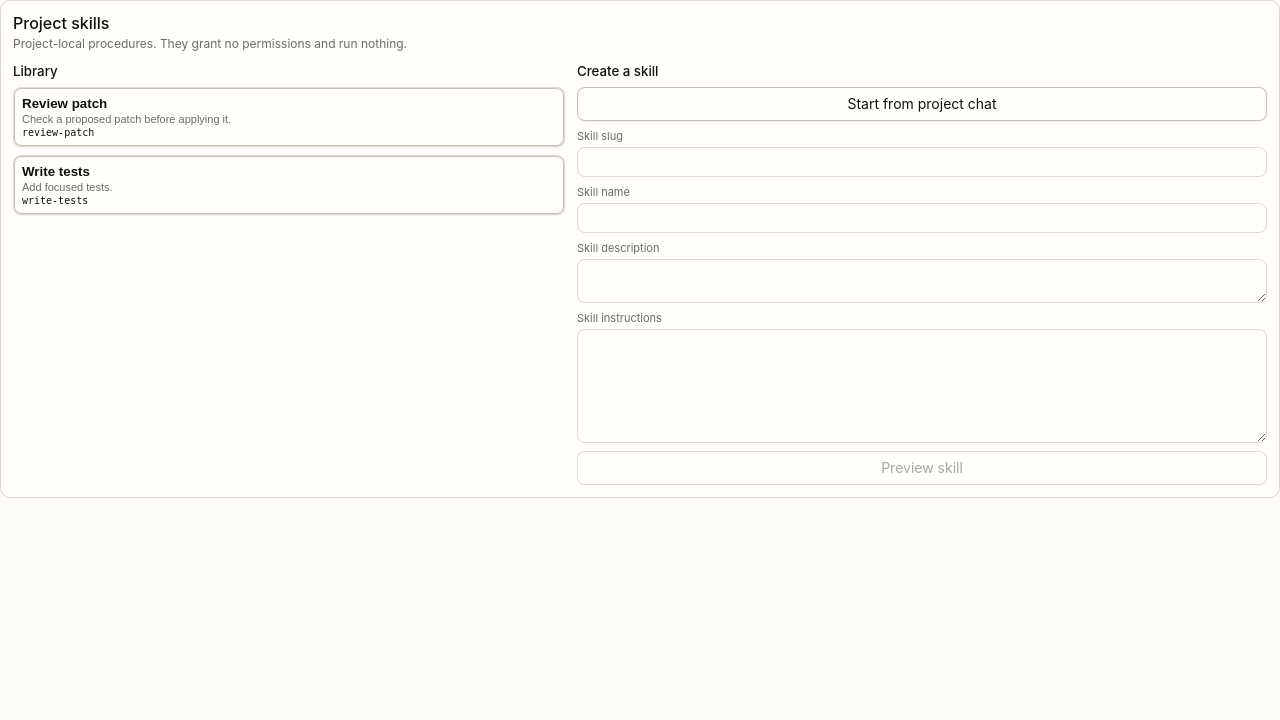
Test case: SkillsPanel › ignores an older lazy load that resolves after the latest selection
What coordinates should you click on to do the following:
click the button "Review patch"
I would click on:
 (65, 104)
Its box is [13, 87, 565, 147].
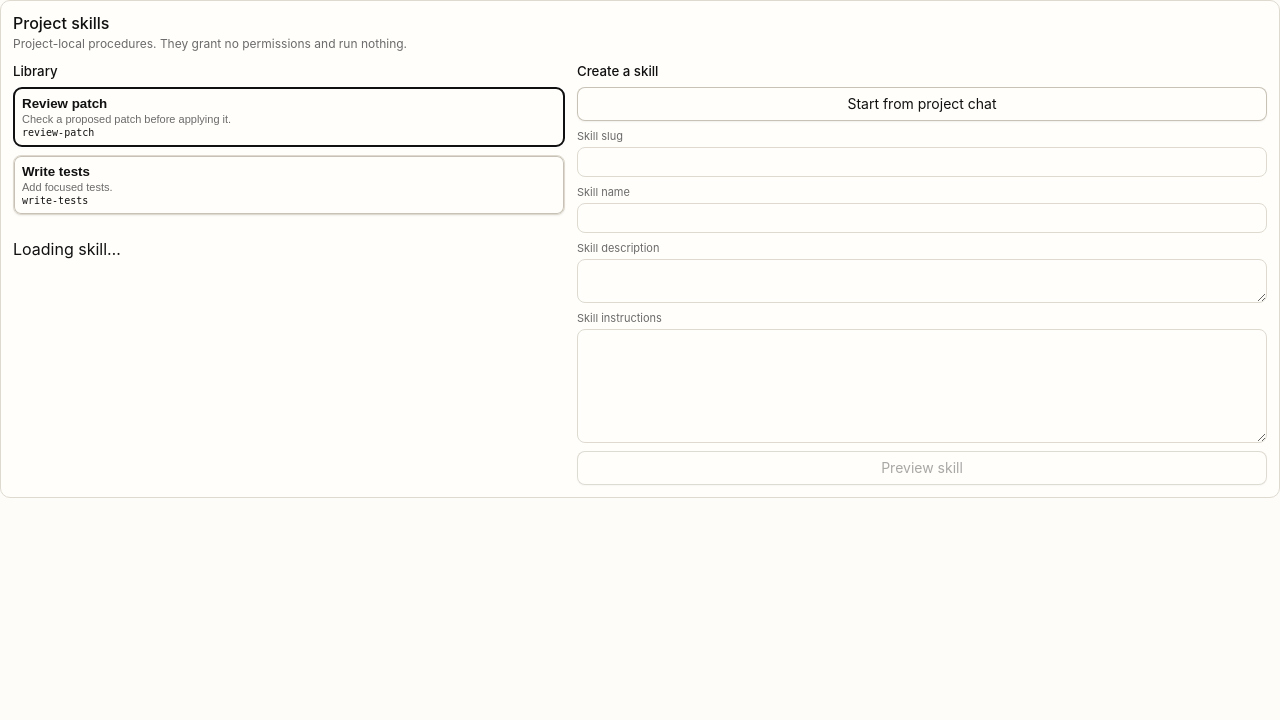
What coordinates should you click on to do the following:
click the button "Write tests Add focused tests. write-tests"
I would click on:
 (56, 172)
Its box is [13, 155, 565, 215].
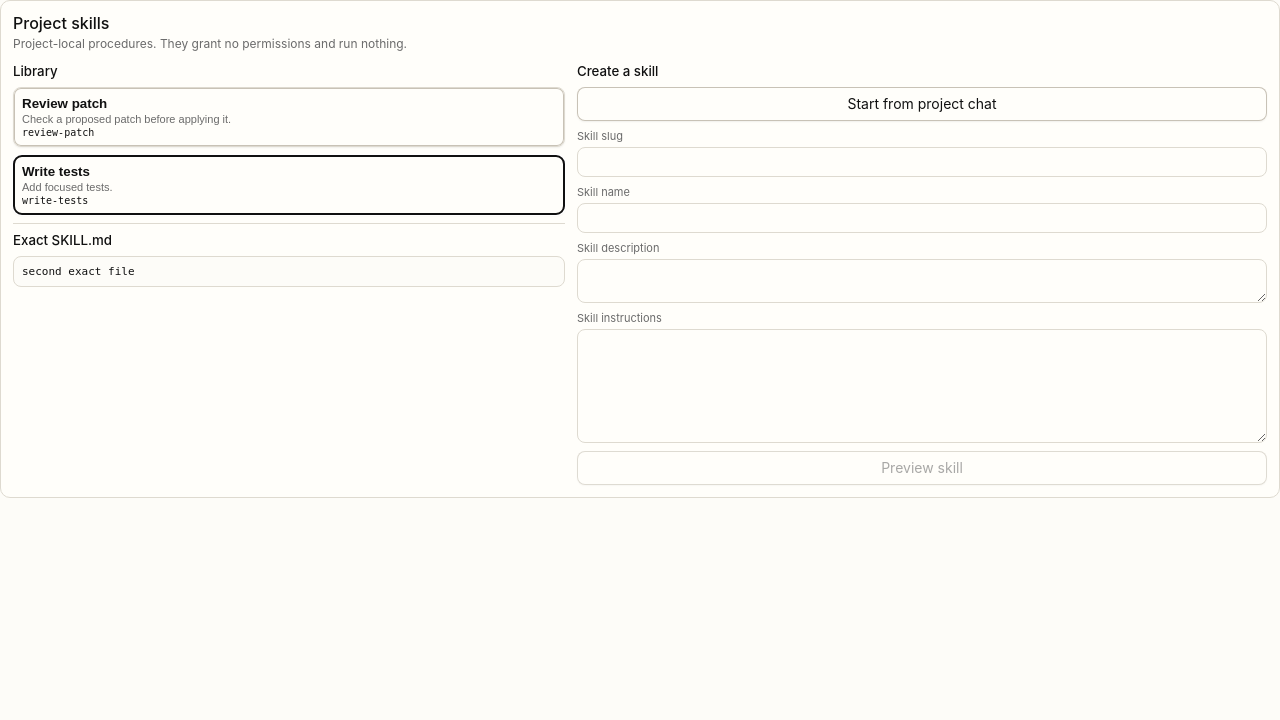
Check: the text "second exact file" is shown, box [13, 256, 565, 287]
